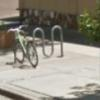bicycles: (6, 24, 39, 68)
